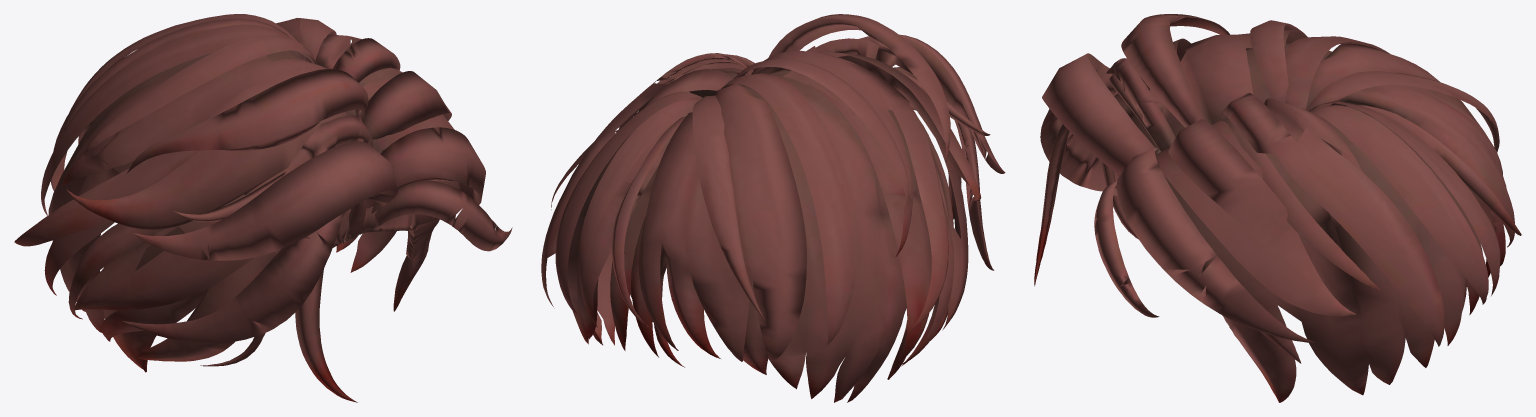
The model's file is hair_m2_sidepart.glb.
The picture shows the model from 3 angles, left to right: view 1: azimuth 30°, elevation 25°; view 2: azimuth 150°, elevation 25°; view 3: azimuth 270°, elevation 25°; orthographic projection. The views are drawn at different scales.
Visible parts, largest first — view 1: Hair_M2_sidepart; view 2: Hair_M2_sidepart; view 3: Hair_M2_sidepart.
Boxes of the visible parts, x1,y1,x2,y2 form: Hair_M2_sidepart: (14,14,512,402); Hair_M2_sidepart: (541,14,1005,402); Hair_M2_sidepart: (1034,14,1521,402).
Size of the model in its own units: 0.5013 by 0.3809 by 0.5485.
Materials: 1 (1 with a texture image).
